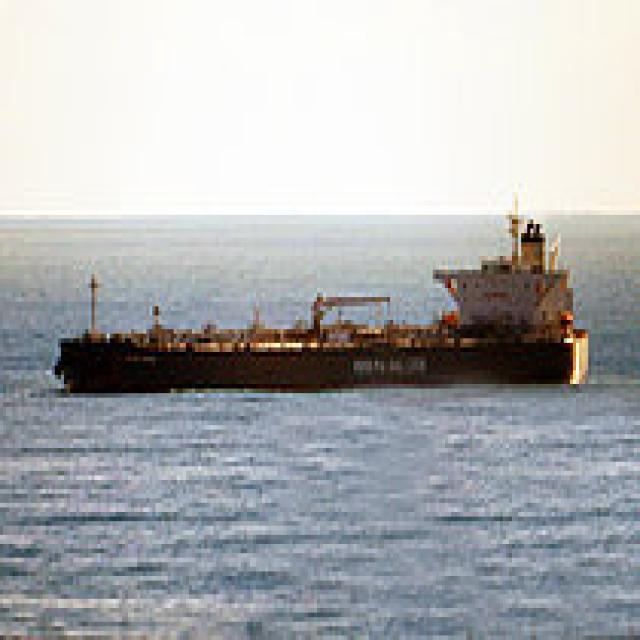Tanker: (49, 188, 588, 388)
